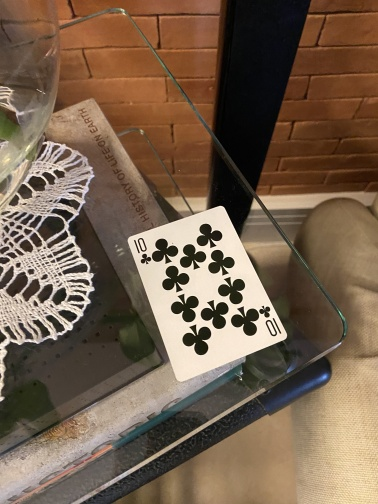ten: (126, 204, 288, 383)
